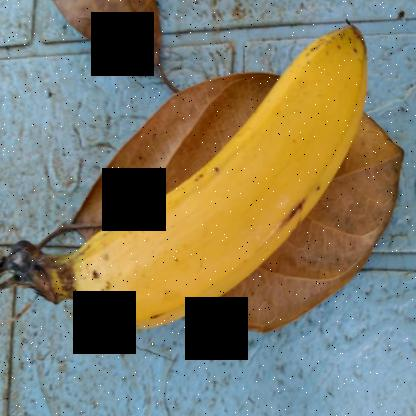freshripe: (65, 1, 376, 345)
